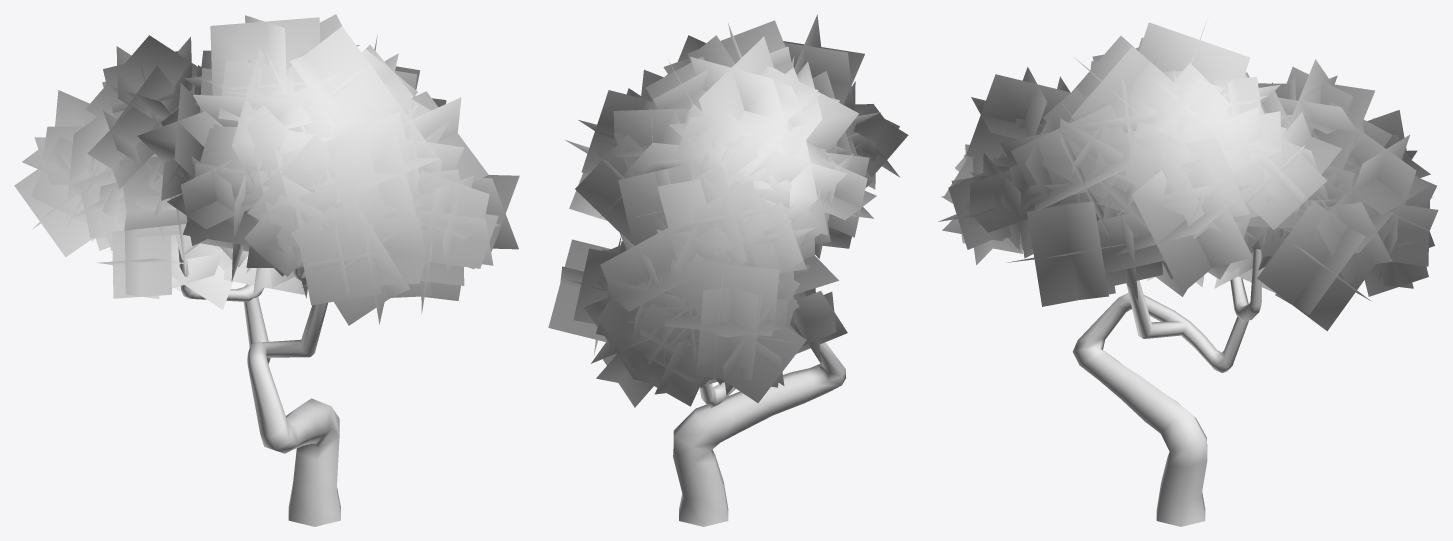
Rendered from STSwiggly2.glb.
The picture shows the model from 3 angles, left to right: view 1: azimuth 30°, elevation 25°; view 2: azimuth 150°, elevation 25°; view 3: azimuth 270°, elevation 25°; orthographic projection. The views are drawn at different scales.
Parts seen in each view (by area): view 1: Leaf.002; view 2: Leaf.002; view 3: Leaf.002.
Part boxes in pixels (<box>): Leaf.002: <box>14,14,519,526</box>; Leaf.002: <box>548,14,908,526</box>; Leaf.002: <box>938,18,1438,526</box>.
Size of the model in its own units: 4.52 by 6.58 by 6.34.
2 materials, 1 textured.
